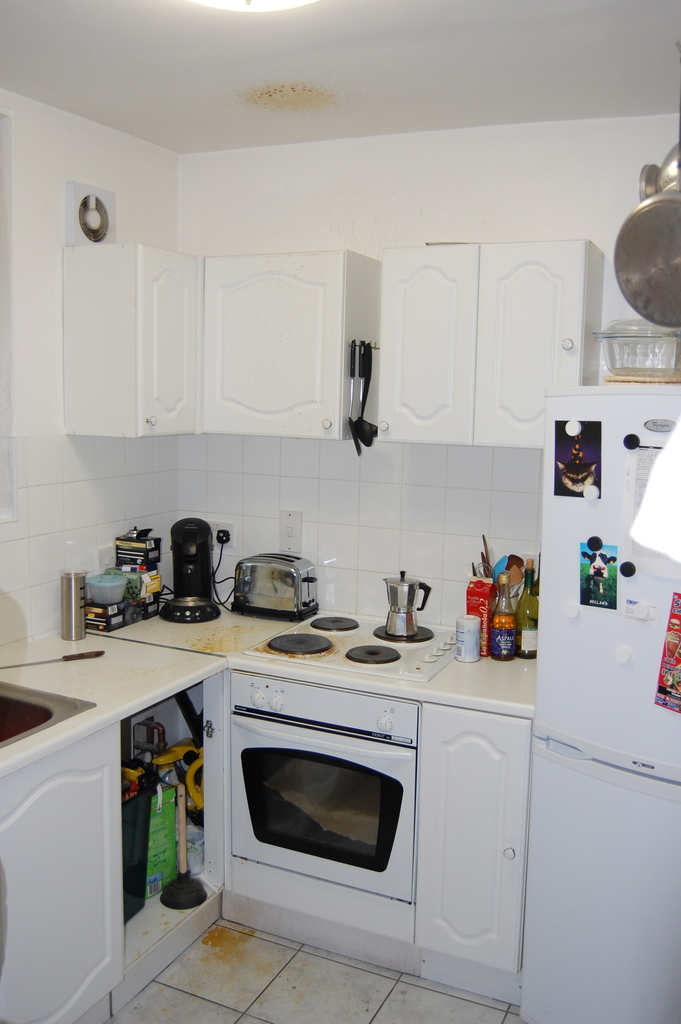cabinet door: (420, 713, 522, 960), (1, 778, 119, 977), (209, 260, 338, 434), (381, 253, 472, 441), (485, 255, 576, 434), (139, 255, 202, 424)
handle: (545, 724, 592, 772), (558, 323, 576, 366), (144, 405, 160, 439), (501, 829, 517, 863), (319, 412, 333, 442)
refrigerator door: (545, 424, 681, 761), (541, 755, 681, 1015)
